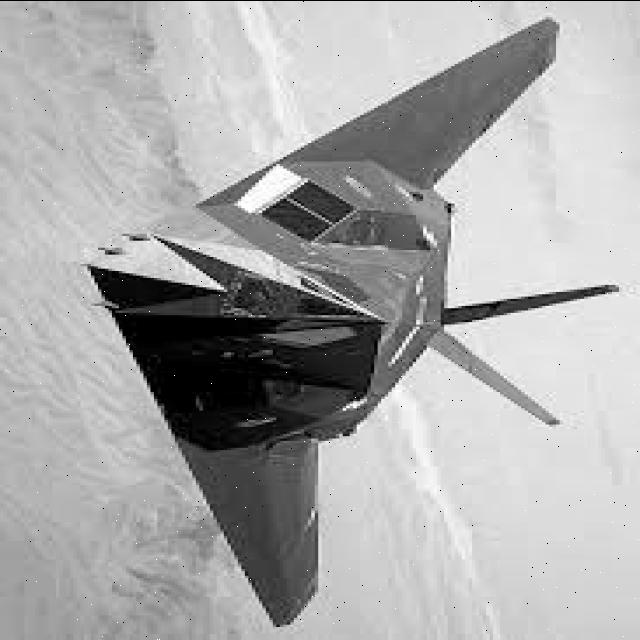F117: (41, 7, 630, 640)
